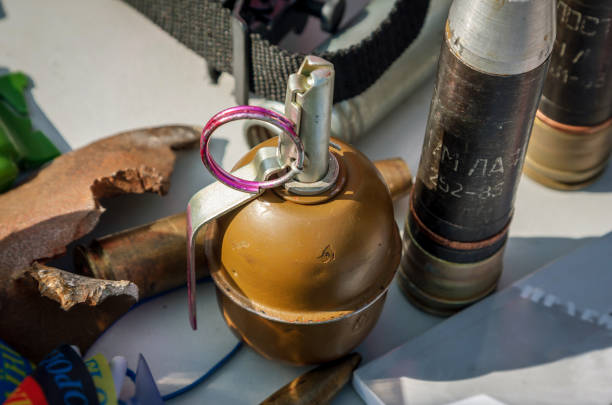e1: (186, 63, 405, 369)
